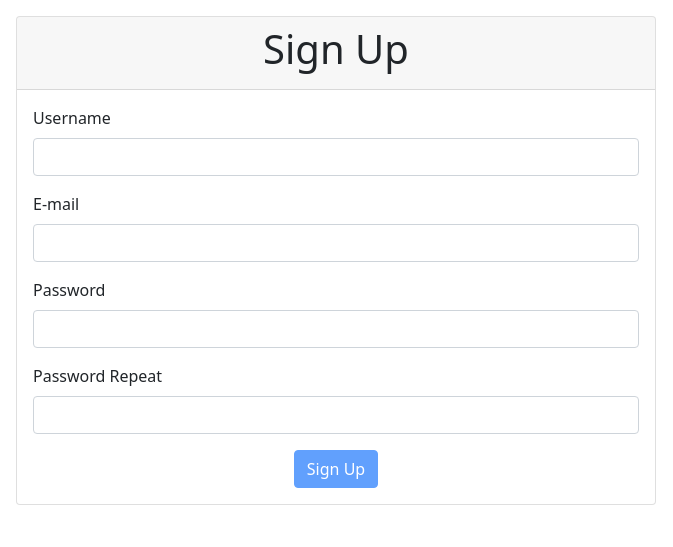
Test: >SignUp Page › Interactions › should displays Password must be at least 6 characters for password
This screenshot has width=673, height=547.
Type "user1" into the field labelled "Username".
click(336, 157); type("user1")  # box [33,138,639,176]
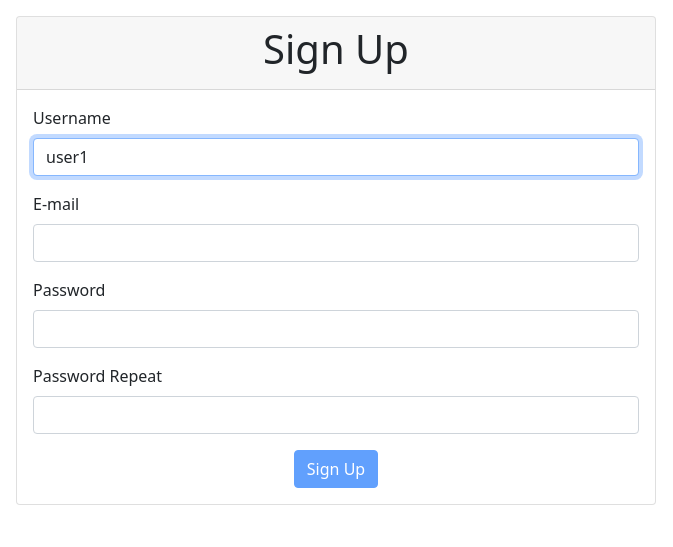
Type "user1@mail.com" into the field labelled "E-mail".
click(336, 243); type("user1@mail.com")  # box [33,224,639,262]
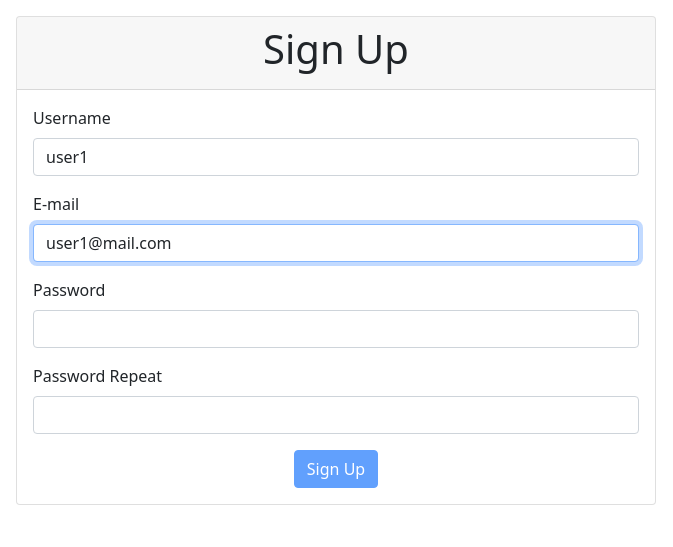
Type "Password" into the password field labelled "Password".
click(336, 329); type("Password")  # box [33,310,639,348]
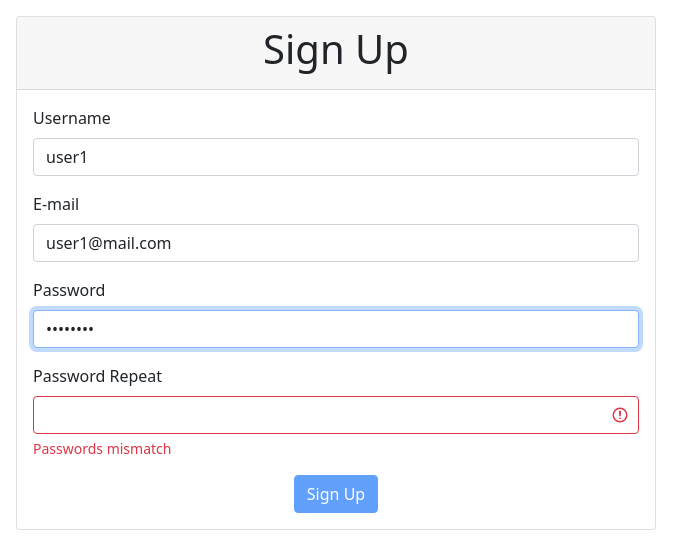
Type "Password" into the password field labelled "Password Repeat".
click(336, 415); type("Password")  # box [33,396,639,434]
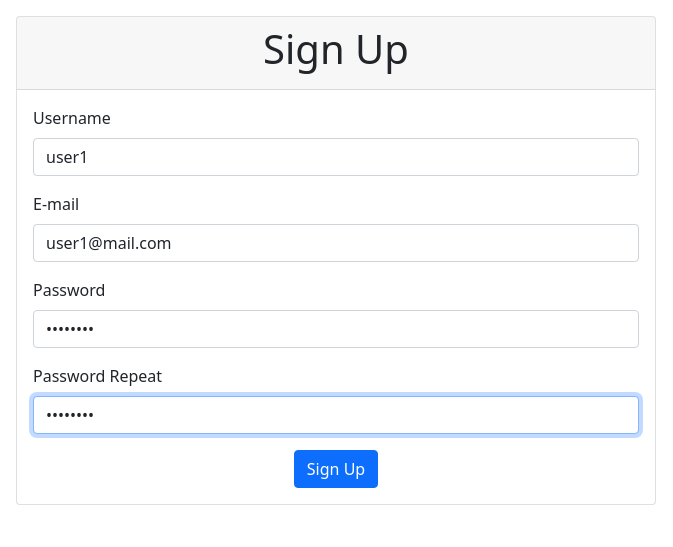
Click the button "Sign Up".
click(336, 469)  # box [294,450,378,488]
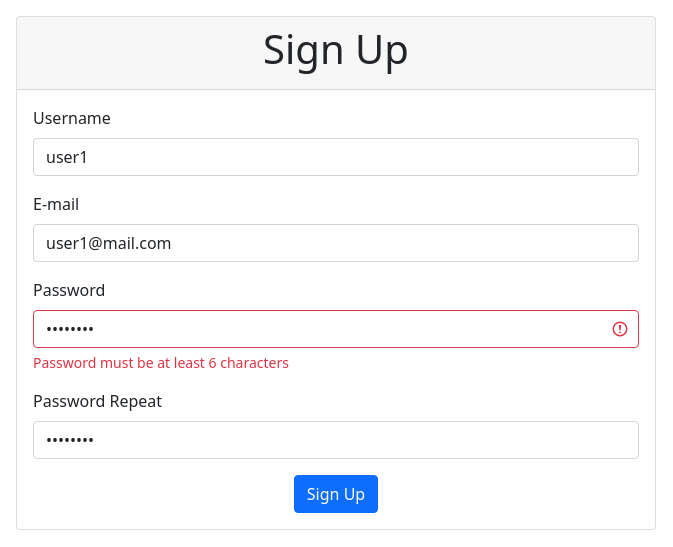
expect the text "Password must be at least 6 characters" is shown: met, box [33,353,289,372]
